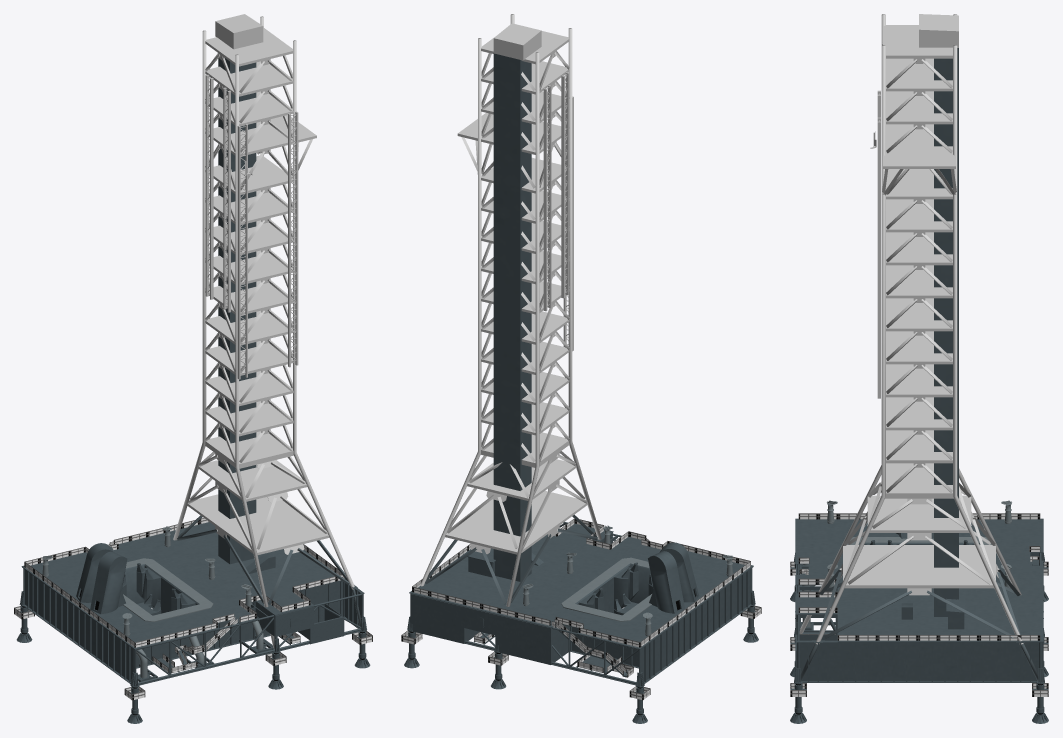
File: launcher.fbx
3 renders of one model, left to right at view 1: azimuth 30°, elevation 25°; view 2: azimuth 150°, elevation 25°; view 3: azimuth 270°, elevation 25°, orthographic. The views are drawn at different scales.
Visible parts, largest first — view 1: ML_HP; view 2: ML_HP; view 3: ML_HP.
Part boxes in pixels (x1,y1,x2,y2): ML_HP: (14,14,372,723); ML_HP: (401,14,761,723); ML_HP: (790,14,1048,723).
Bounding box in the file's own units: 102 × 246 × 86.72.
3 materials, 2 textured.
